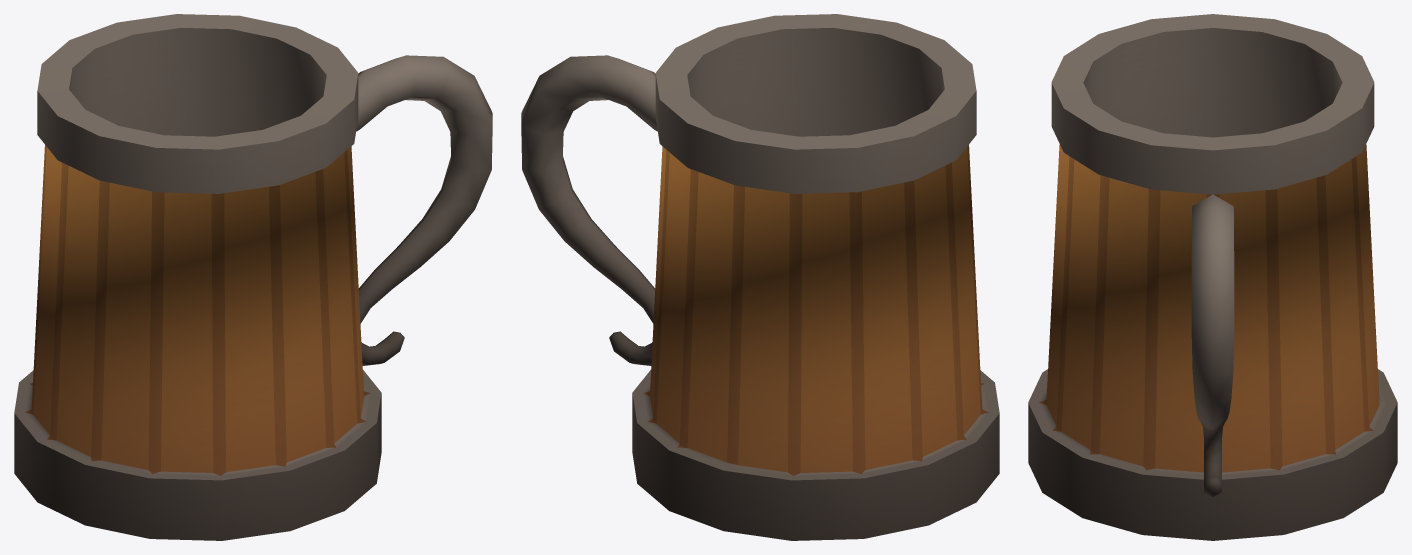
File: obj_EmptyBeerCup.fbx
3 views of the same model, side by side, from view 1: azimuth 30°, elevation 25°; view 2: azimuth 150°, elevation 25°; view 3: azimuth 270°, elevation 25° (orthographic).
Visible parts, largest first — view 1: obj_EmptyBeerCup; view 2: obj_EmptyBeerCup; view 3: obj_EmptyBeerCup.
Part boxes in pixels (box(x1,y1,x2,y2)): obj_EmptyBeerCup: box(14, 14, 492, 540); obj_EmptyBeerCup: box(521, 14, 999, 540); obj_EmptyBeerCup: box(1028, 14, 1397, 540).
Bounding box in the file's own units: 18.27 × 14.64 × 12.88.
